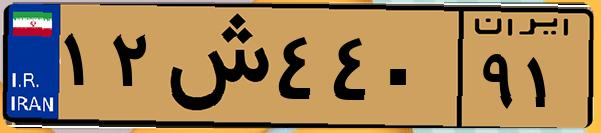0: (385, 28, 445, 110)
1: (57, 26, 110, 100), (525, 38, 570, 115)
2: (110, 28, 158, 98)
4: (270, 28, 330, 110), (330, 28, 385, 110)
9: (475, 38, 525, 113)
ش: (158, 12, 270, 120)
